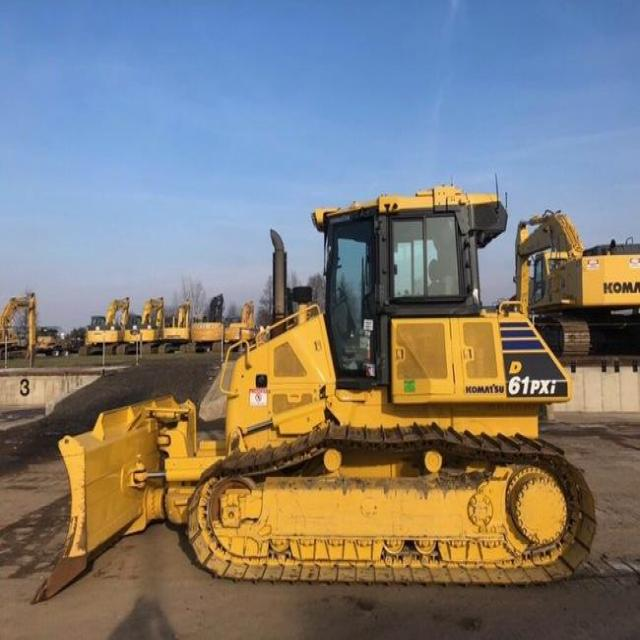Bulldozer: (34, 167, 612, 611)
